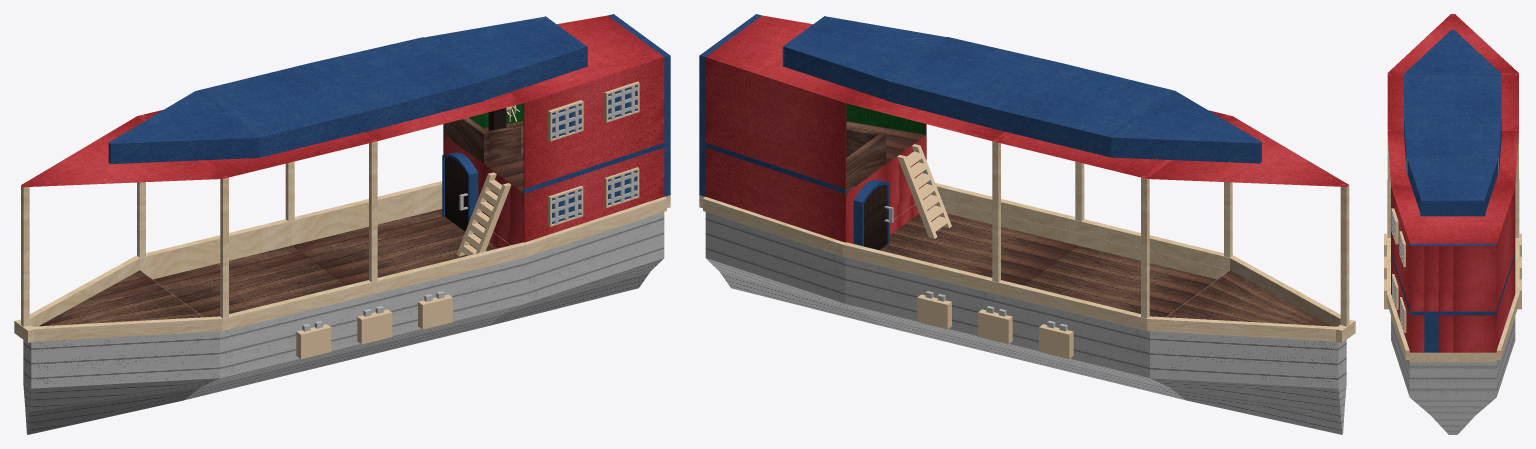
Rendered from My Ship Model.fbx.
3 renders of one model, left to right at view 1: azimuth 30°, elevation 25°; view 2: azimuth 150°, elevation 25°; view 3: azimuth 270°, elevation 25°, orthographic. The views are drawn at different scales.
Visible parts, largest first — view 1: Cube; view 2: Cube; view 3: Cube.
Part boxes in pixels (x1,y1,x2,y2): Cube: (14, 14, 670, 434); Cube: (699, 14, 1355, 434); Cube: (1384, 14, 1521, 434).
Bounding box in the file's own units: 2652 × 1109 × 665.
Materials: 8 (8 with a texture image).
